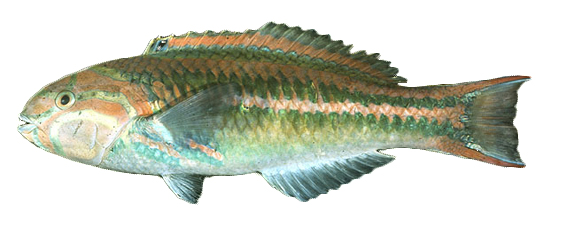fish: (17, 21, 532, 204)
